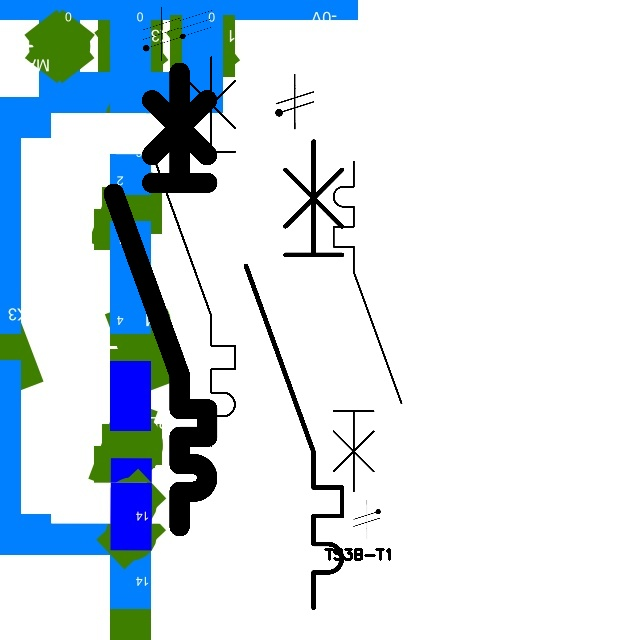interruptor_termomagnetico: (234, 129, 354, 620), (102, 60, 219, 537), (145, 47, 245, 456), (325, 153, 410, 499)
